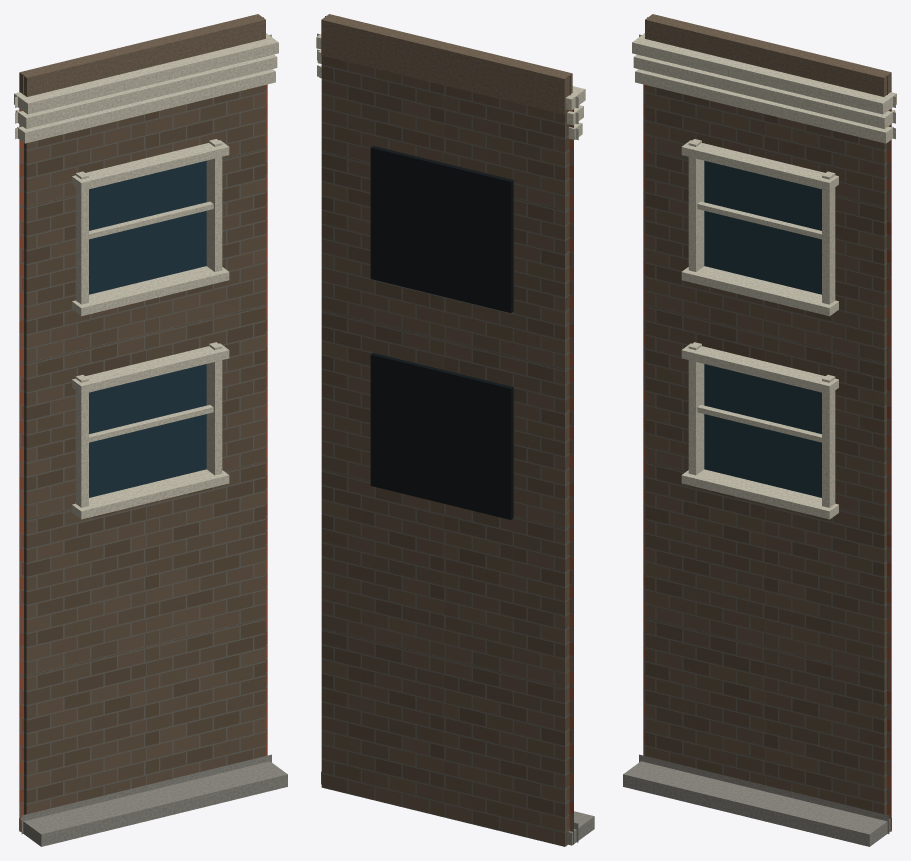
File: VICT18_lod2.glb
3 renders of one model, left to right at view 1: azimuth 30°, elevation 25°; view 2: azimuth 150°, elevation 25°; view 3: azimuth 330°, elevation 25°, orthographic.
Visible parts, largest first — view 1: VICT18_FRONT_LOD2; view 2: VICT18_FRONT_LOD2; view 3: VICT18_FRONT_LOD2.
Part boxes in pixels (bbox=[...]): VICT18_FRONT_LOD2: bbox=[14, 14, 287, 846]; VICT18_FRONT_LOD2: bbox=[316, 14, 594, 846]; VICT18_FRONT_LOD2: bbox=[623, 14, 896, 846].
Size of the model in its own units: 3.44 by 9.66 by 0.65.
Materials: 8 (6 with a texture image).
